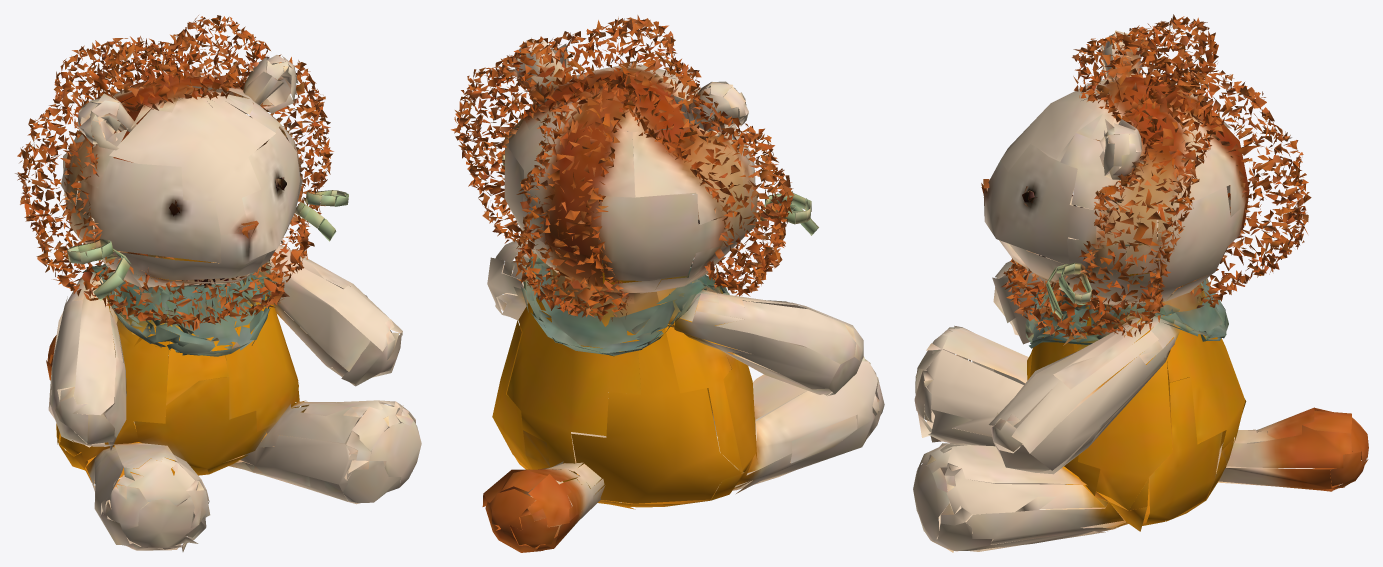
Rendered from lion.glb.
The picture shows the model from 3 angles, left to right: view 1: azimuth 30°, elevation 25°; view 2: azimuth 150°, elevation 25°; view 3: azimuth 270°, elevation 25°; orthographic projection. The views are drawn at different scales.
Visible parts, largest first — view 1: prop; view 2: prop; view 3: prop.
Boxes of the visible parts, <box> form: prop: <box>15,15,421,551</box>; prop: <box>451,15,884,552</box>; prop: <box>913,14,1368,552</box>.
Size of the model in its own units: 0.8332 by 1 by 0.9003.
1 material, 1 textured.
